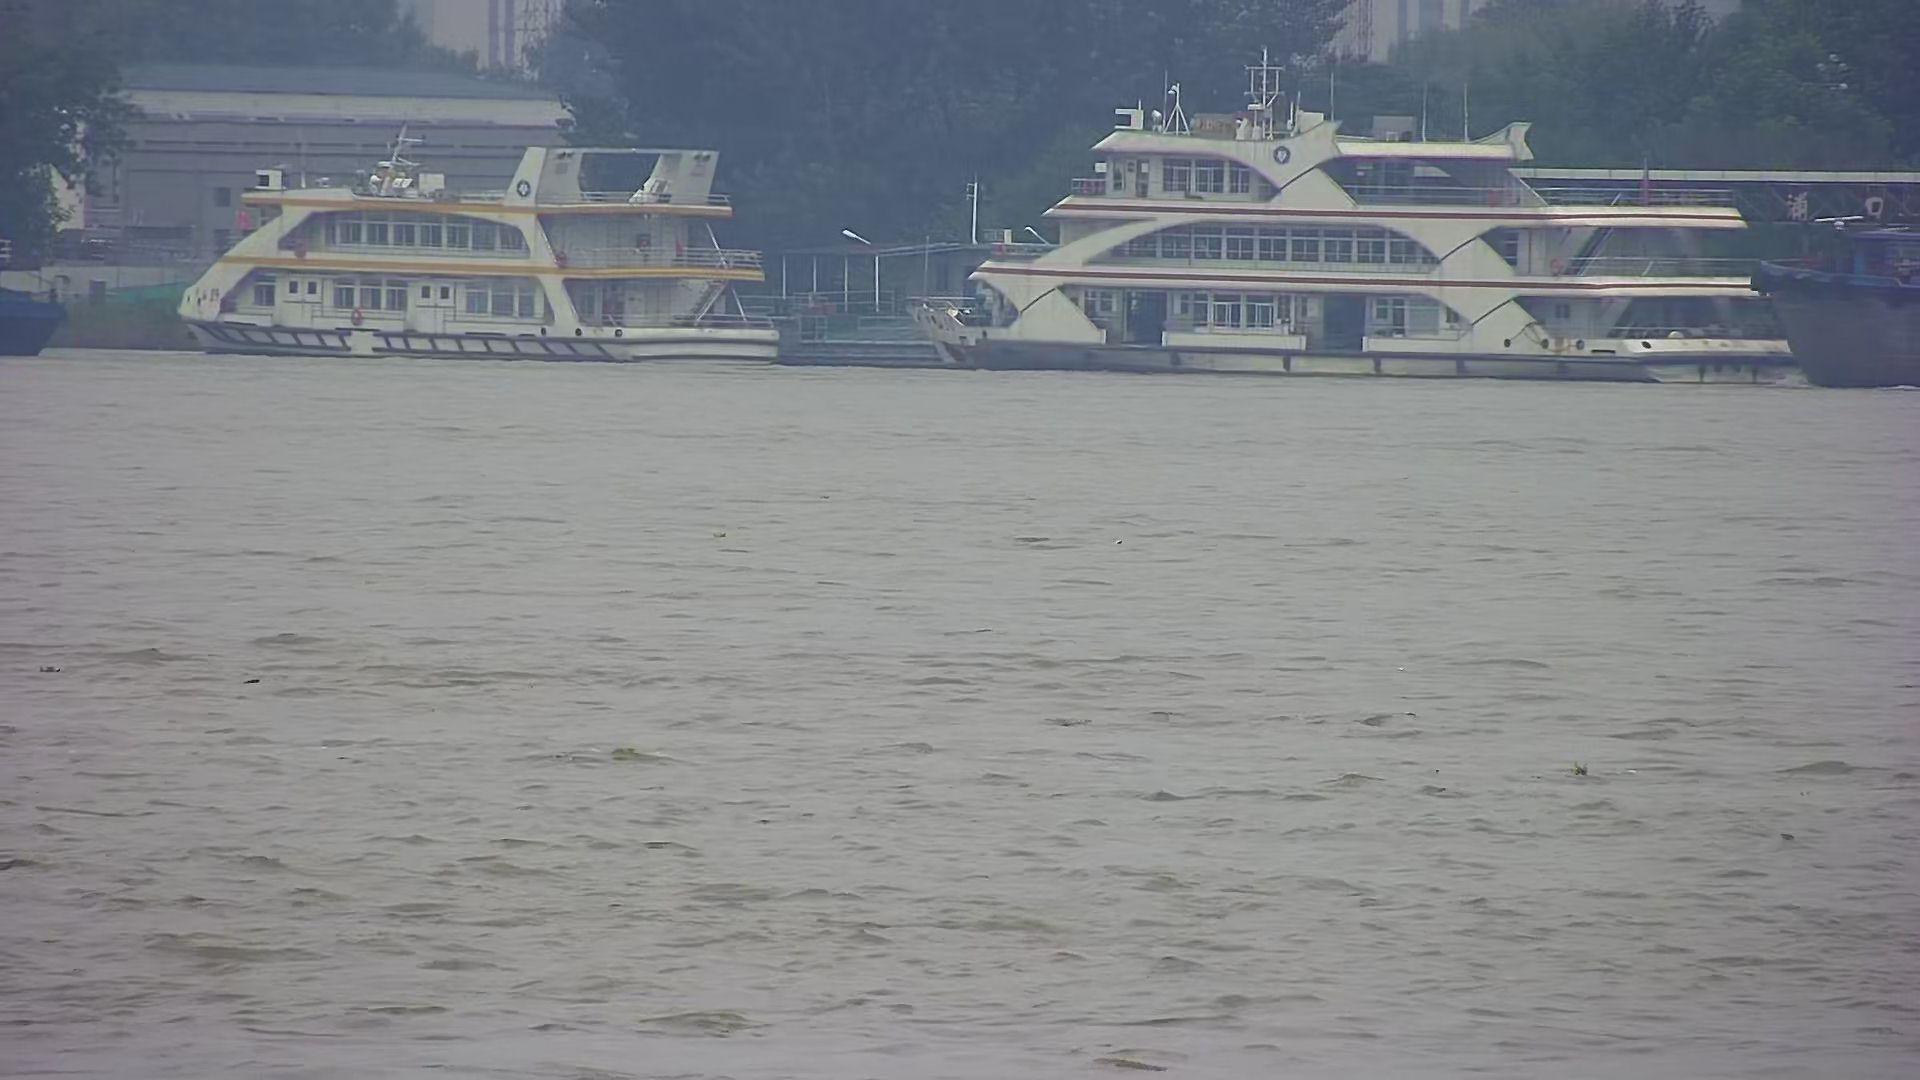ship: (905, 32, 1805, 388), (156, 127, 802, 377)
